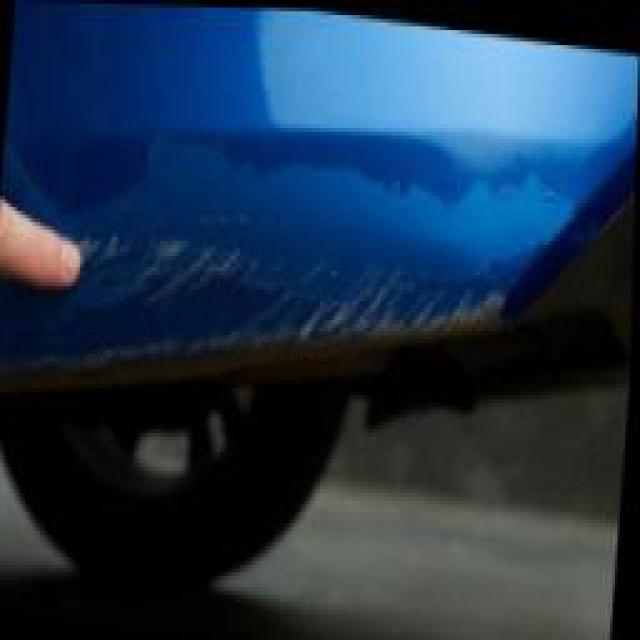Bumper: (2, 132, 534, 439)
